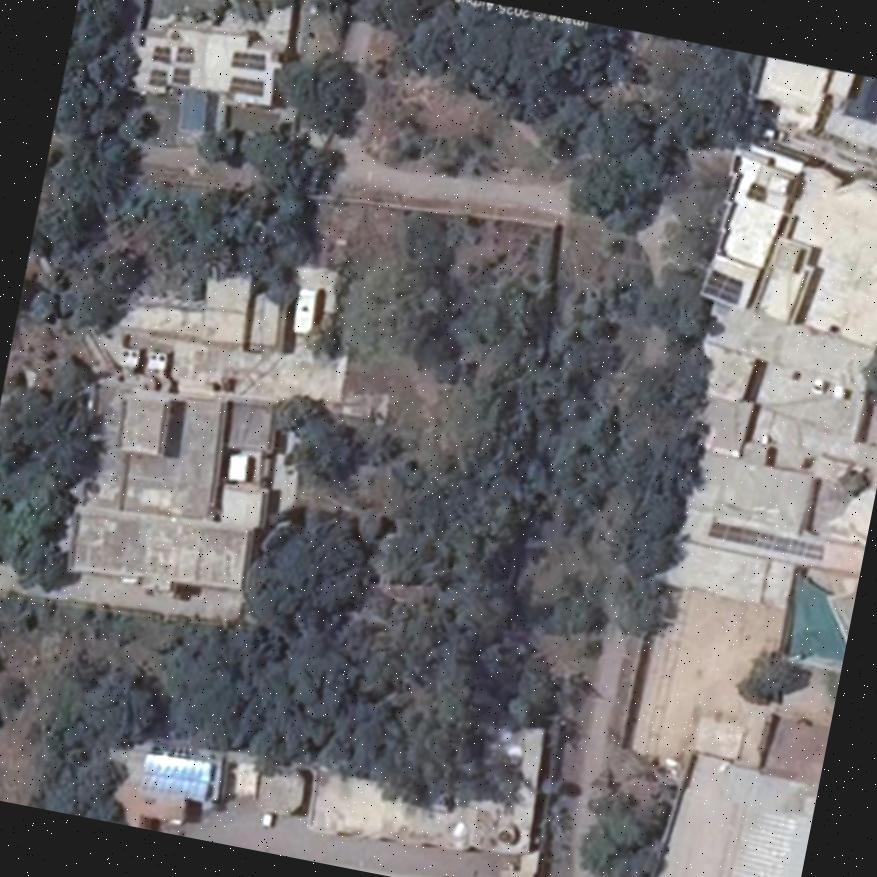Solarpanel: (709, 521, 821, 558), (141, 753, 213, 803), (700, 270, 743, 303), (227, 75, 262, 97), (229, 51, 264, 68), (170, 68, 189, 85), (148, 69, 165, 86), (174, 48, 191, 63), (152, 46, 168, 61)
